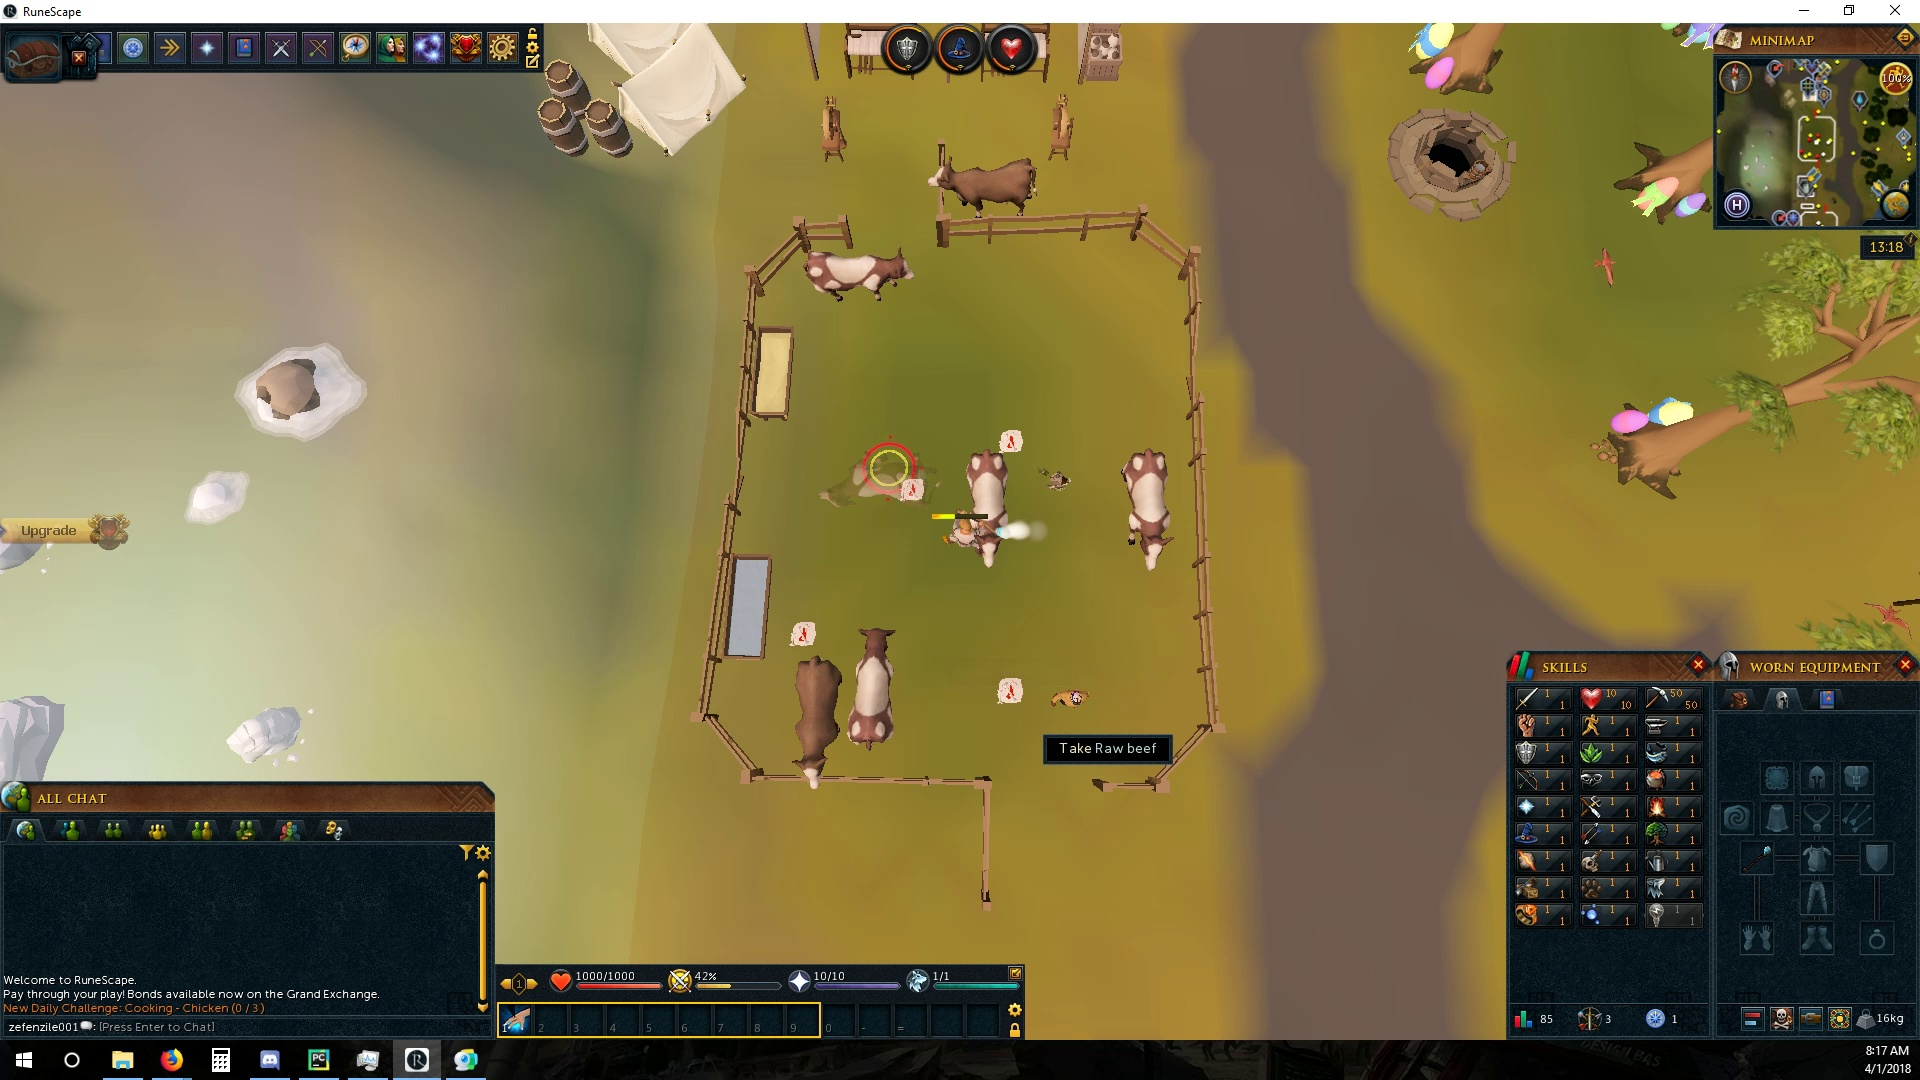cow: (1117, 447, 1175, 574), (793, 653, 843, 794), (927, 157, 1040, 218), (800, 245, 918, 303), (847, 622, 898, 753), (963, 443, 1013, 570)
cow_drop: (895, 469, 928, 508), (793, 616, 818, 651), (996, 426, 1026, 455), (996, 678, 1023, 707)
